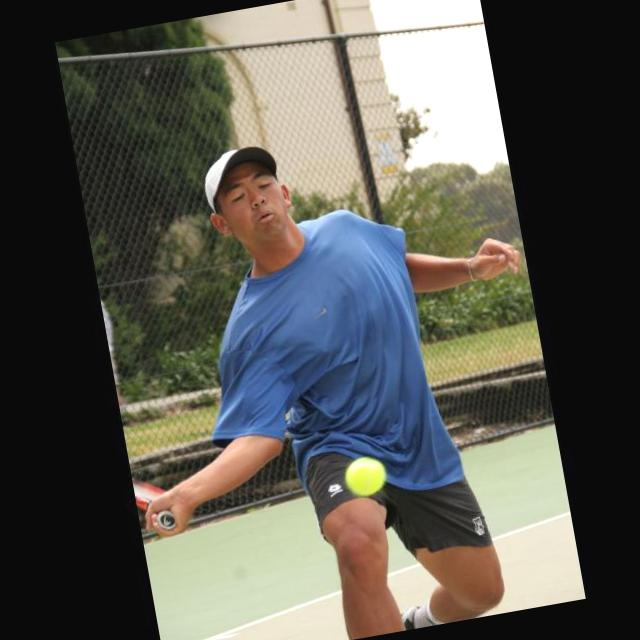Tennis Ball: (343, 452, 390, 500)
